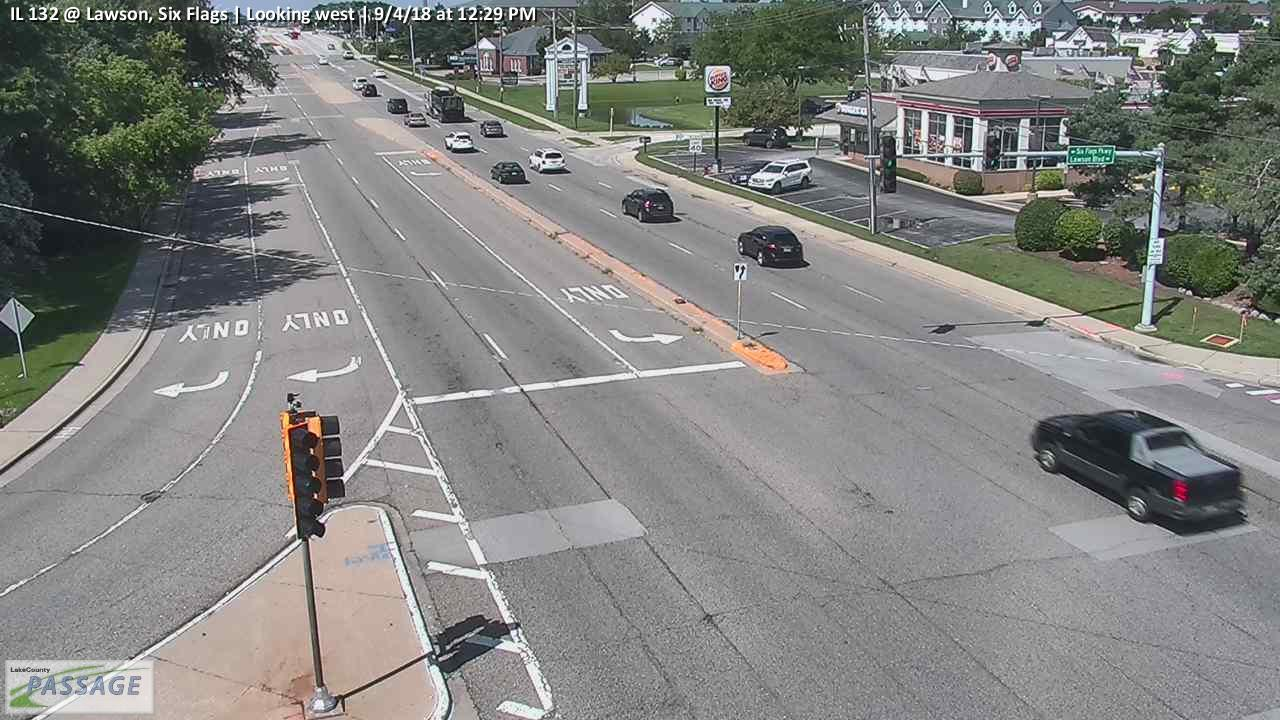SUV: (738, 225, 802, 267), (748, 159, 812, 194), (622, 188, 674, 222), (528, 148, 566, 173), (744, 126, 787, 148), (445, 130, 473, 153), (386, 98, 408, 114), (361, 84, 377, 97), (352, 77, 366, 90)
Sedan: (730, 160, 779, 185), (490, 162, 525, 185), (480, 120, 503, 137), (404, 112, 425, 127), (373, 68, 385, 77)
Truck: (1033, 409, 1245, 535), (425, 86, 464, 122)
